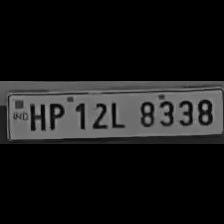1: (68, 98, 88, 130)
2: (88, 97, 110, 129)
3: (156, 96, 174, 127), (176, 95, 194, 125)
8: (134, 96, 156, 128), (194, 95, 214, 125)
H: (27, 99, 46, 130)
L: (106, 97, 127, 128)
P: (44, 99, 66, 130)
